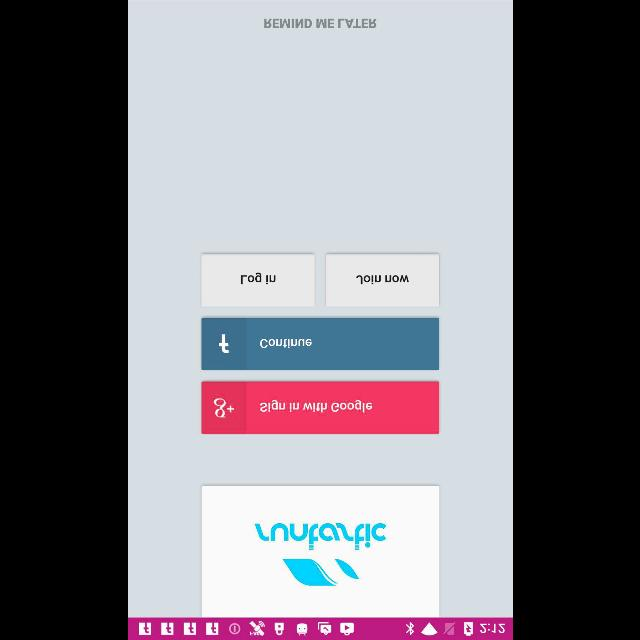image: (201, 486, 439, 616)
text: (264, 18, 376, 28)
textbutton: (201, 382, 439, 434), (201, 318, 439, 370), (200, 254, 314, 306), (326, 254, 438, 306)
uppertaskbar: (128, 617, 512, 639)
